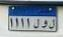1: (15, 17, 19, 28), (26, 18, 30, 28), (21, 17, 24, 27), (10, 17, 13, 27)
laam: (49, 18, 55, 31), (33, 19, 40, 29)
waw: (41, 19, 48, 29)
